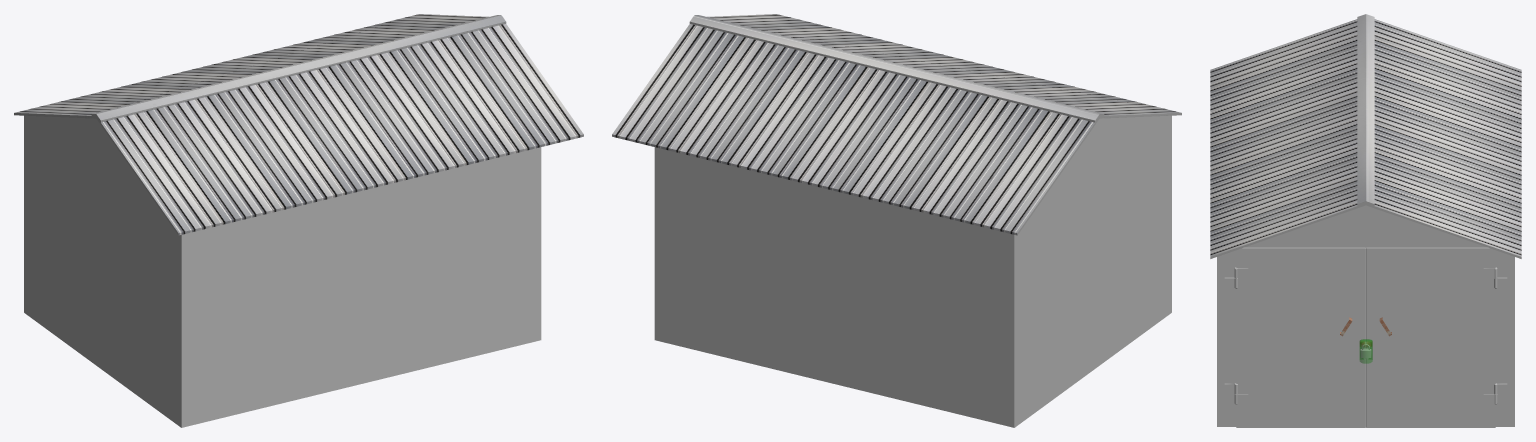
3 renders of one model, left to right at view 1: azimuth 30°, elevation 25°; view 2: azimuth 150°, elevation 25°; view 3: azimuth 270°, elevation 25°, orthographic. The views are drawn at different scales.
Parts seen in each view (by area): view 1: Box001, top; view 2: Box001, top; view 3: top, Box001, Cylinder002_dorr mounts_0, Cylinder003.
Boxes of the visible parts, box(x1,y1,x2,y2) form: Box001: box(24, 115, 541, 427); top: box(14, 14, 583, 235); Box001: box(654, 115, 1171, 427); top: box(612, 14, 1181, 235); top: box(1210, 14, 1521, 258); Box001: box(1217, 205, 1514, 427); Cylinder002_dorr mounts_0: box(1224, 267, 1507, 404); Cylinder003: box(1359, 339, 1372, 363).
Bounding box in the file's own units: 6.25 × 3.8 × 4.39.
